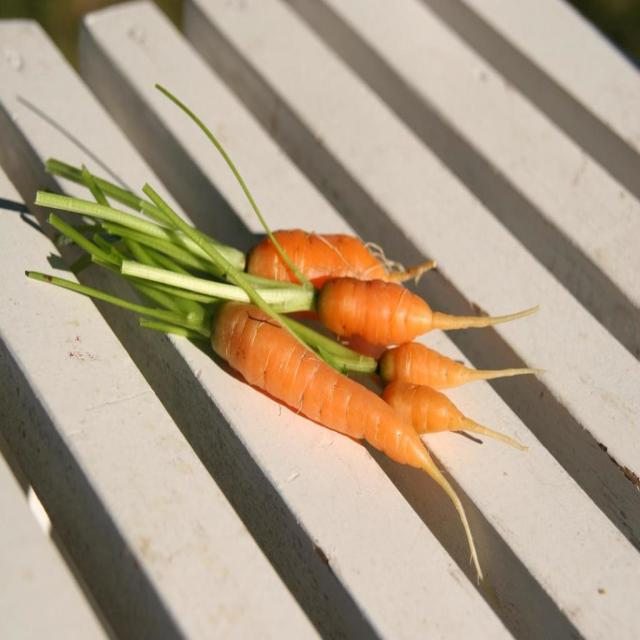Carrot: (201, 300, 426, 430)
